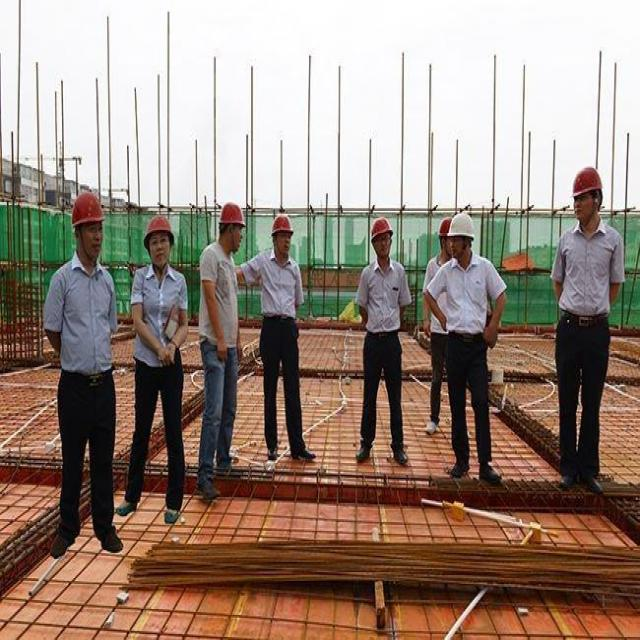hat: (71, 190, 105, 263), (571, 167, 603, 228), (143, 214, 175, 269), (219, 200, 247, 253), (448, 213, 475, 259), (271, 214, 294, 256), (371, 218, 392, 257)
